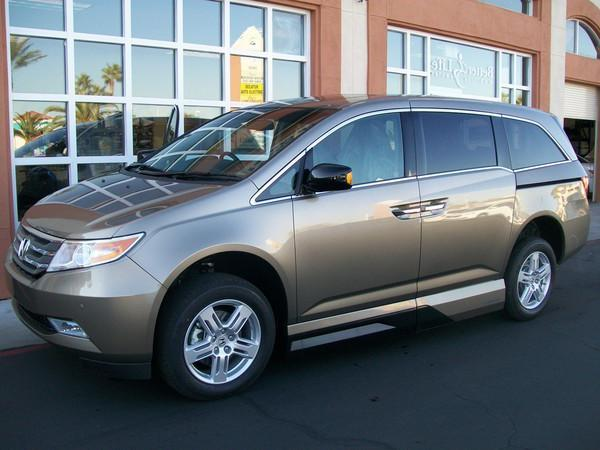Car: (2, 82, 600, 408)
